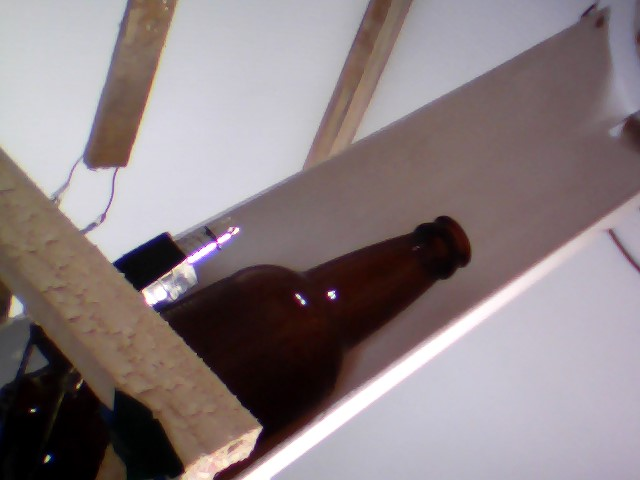vidrio: (189, 213, 484, 441)
